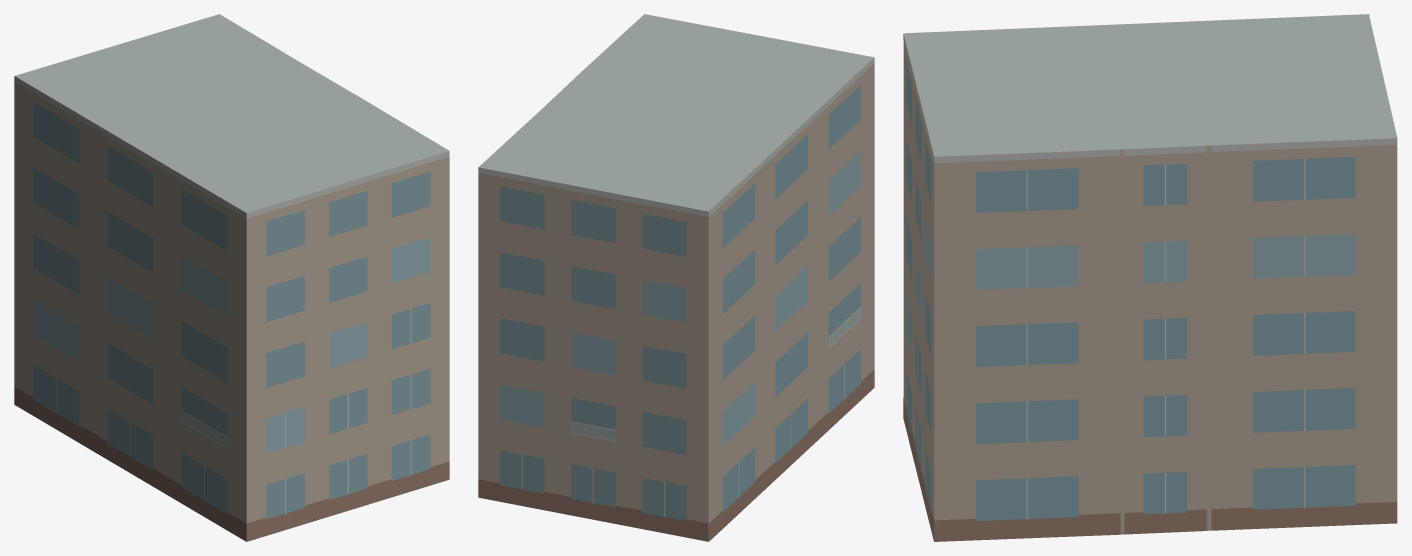
The model's file is survey-upis-32665705.glb.
3 views of the same model, side by side, from view 1: azimuth 30°, elevation 25°; view 2: azimuth 150°, elevation 25°; view 3: azimuth 270°, elevation 25° (orthographic). The views are drawn at different scales.
Visible parts, largest first — view 1: survey-upis-32665705.tmp; view 2: survey-upis-32665705.tmp; view 3: survey-upis-32665705.tmp.
Part boxes in pixels (box(x1,y1,x2,y2)): survey-upis-32665705.tmp: box(14, 14, 449, 541); survey-upis-32665705.tmp: box(478, 14, 874, 541); survey-upis-32665705.tmp: box(903, 14, 1397, 541).
Size of the model in its own units: 11.3 by 14.2 by 16.52.
